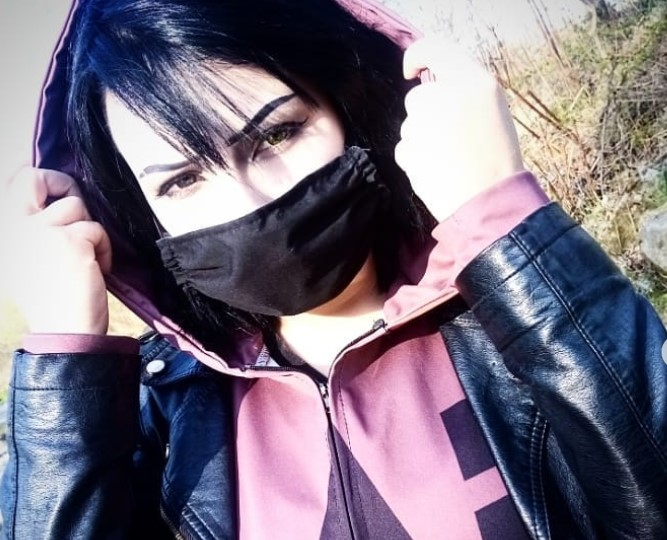face_with_mask: (70, 7, 391, 319)
